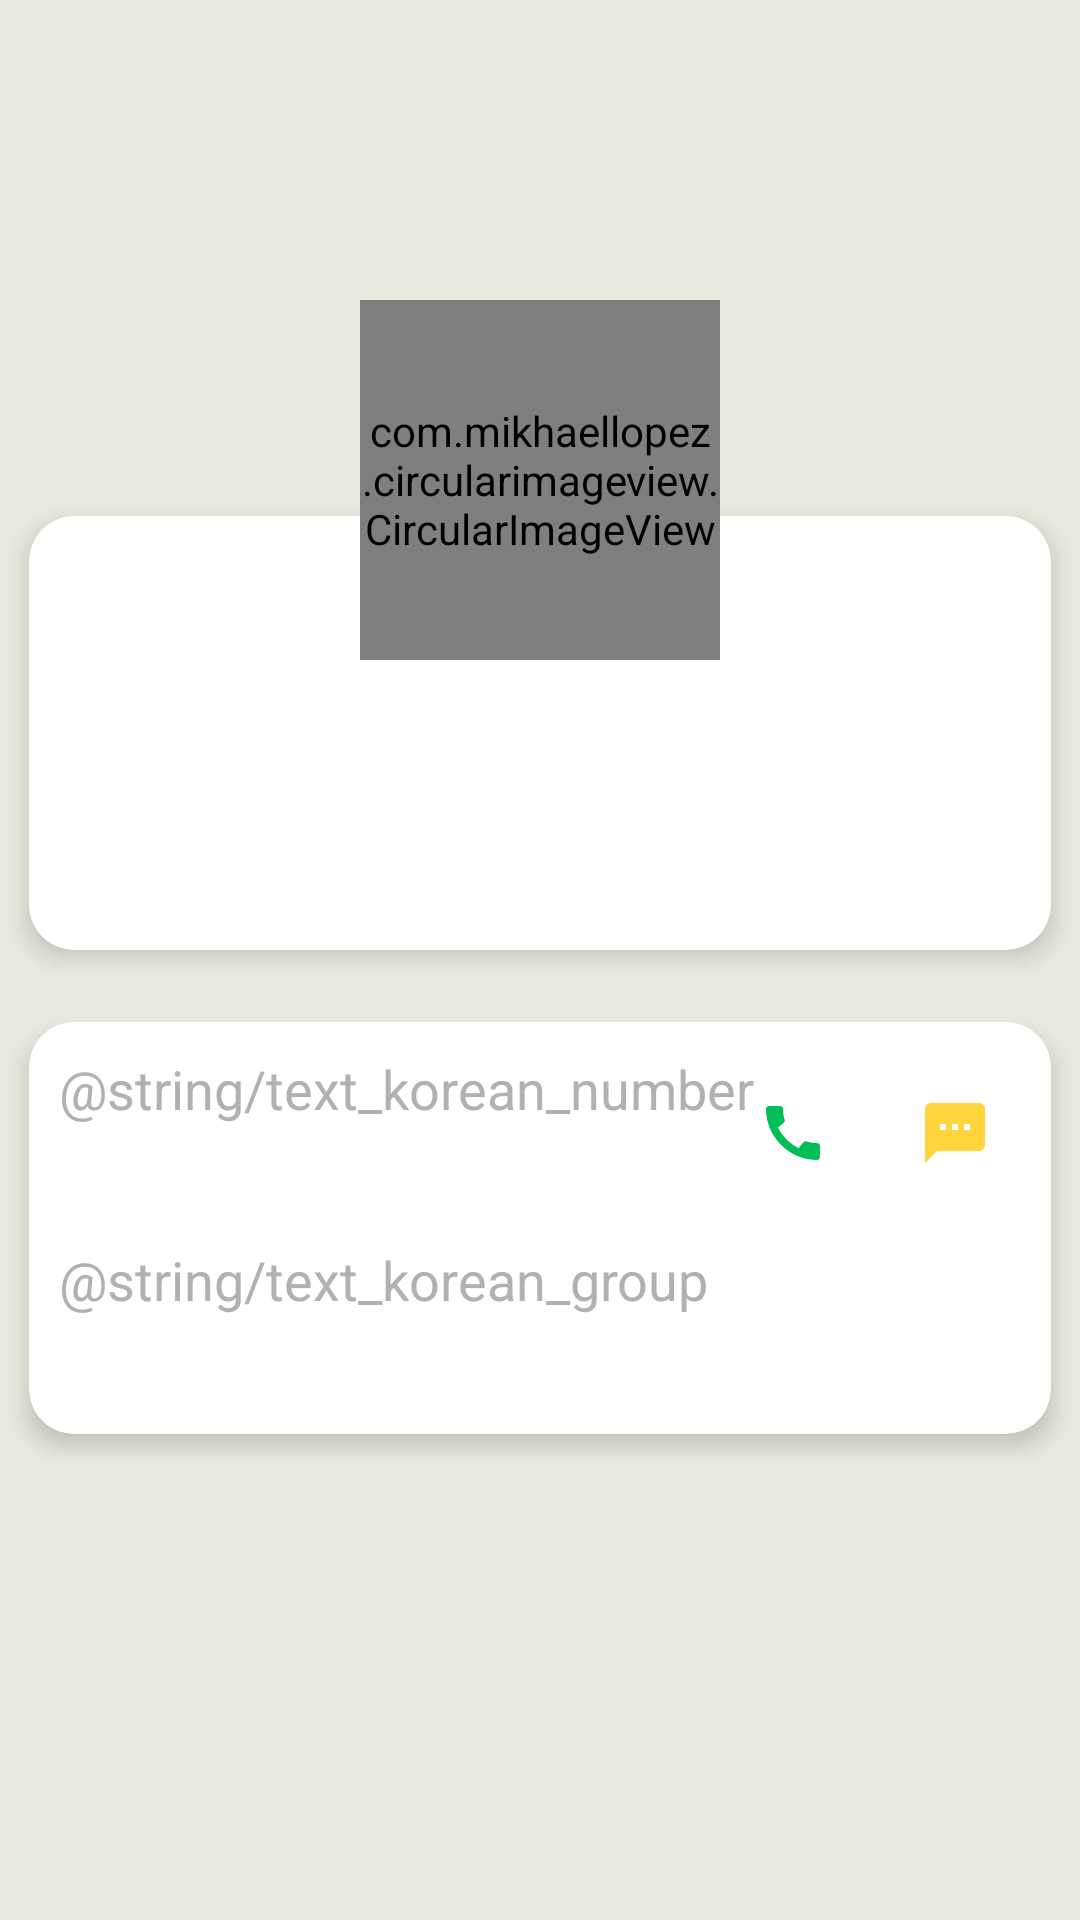

Icons on this 1080*1920 Android screen, each with the point to tap as [x,y]:
call: [793,1133]
text: [955,1133]
